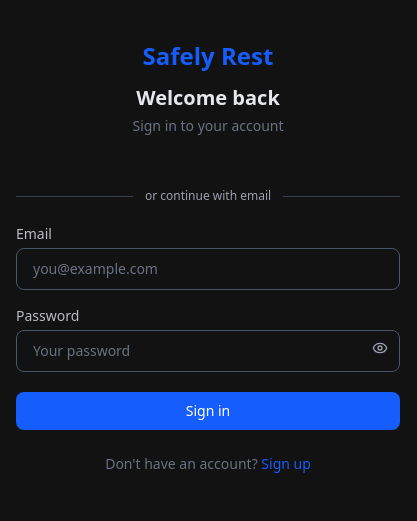
Test: Login page › should show error when login fails
Step 1. Type "wrong@test.com" into the field with placeholder "you@example.com" → (208, 269), box [16, 248, 400, 290]
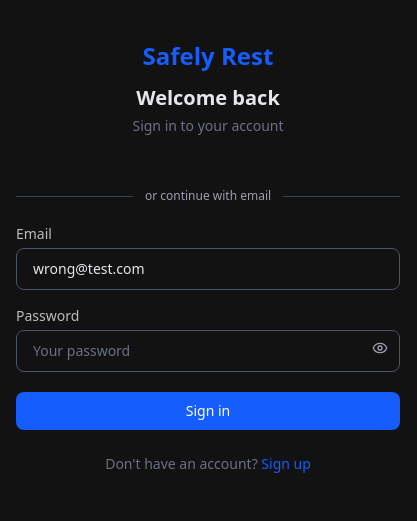
Step 2. Type "wrongpass" into the password field with placeholder "Your password" → (208, 351), box [16, 330, 400, 372]
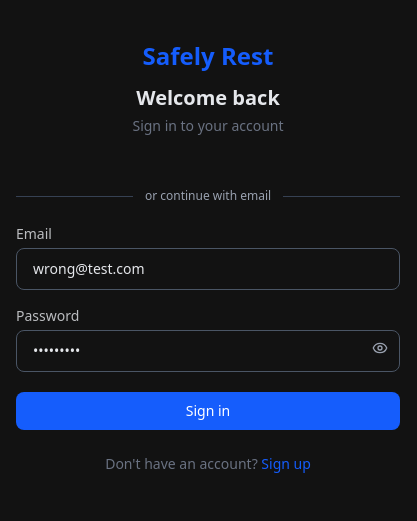
Step 3. Click the button "Sign in" → (208, 411), box [16, 392, 400, 430]
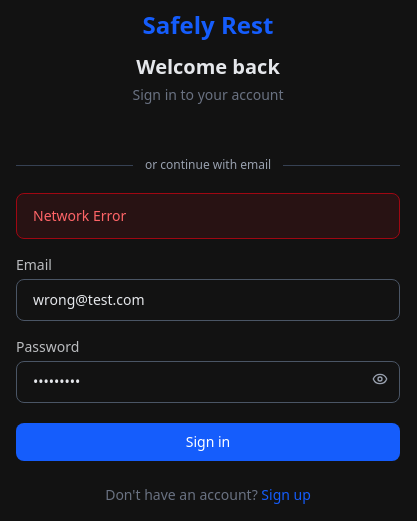
Now the text "Network Error" is shown, box [16, 193, 400, 239]
